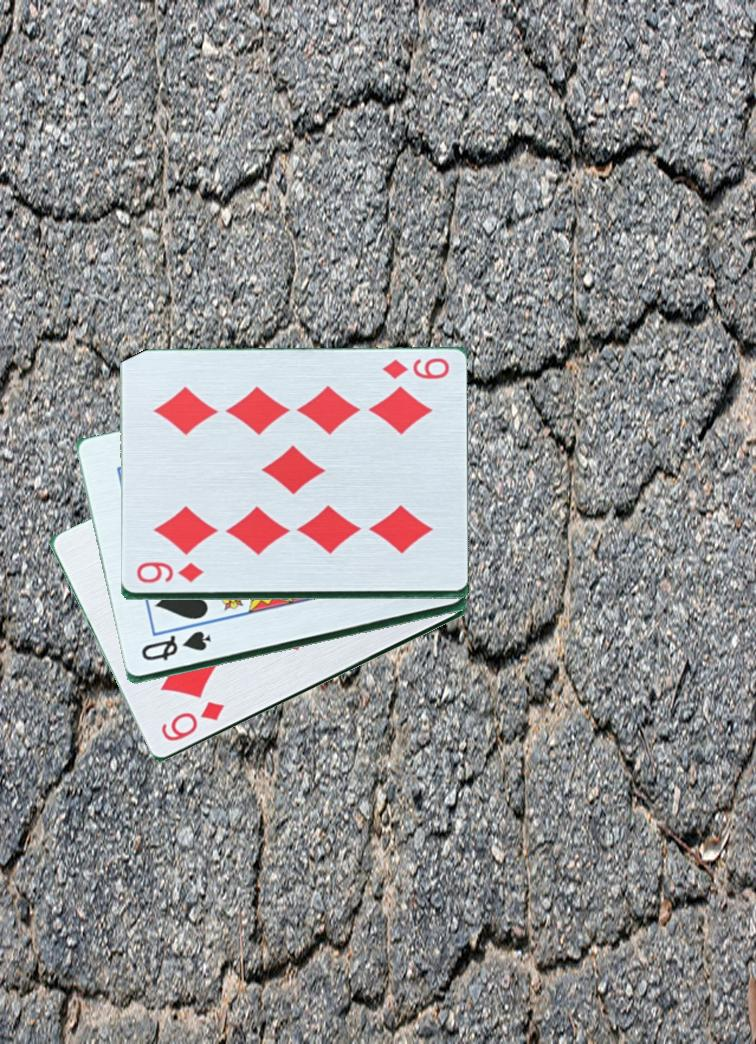6d: (157, 698, 227, 745)
9d: (378, 354, 459, 383), (132, 562, 205, 587)
qs: (137, 630, 213, 664)
